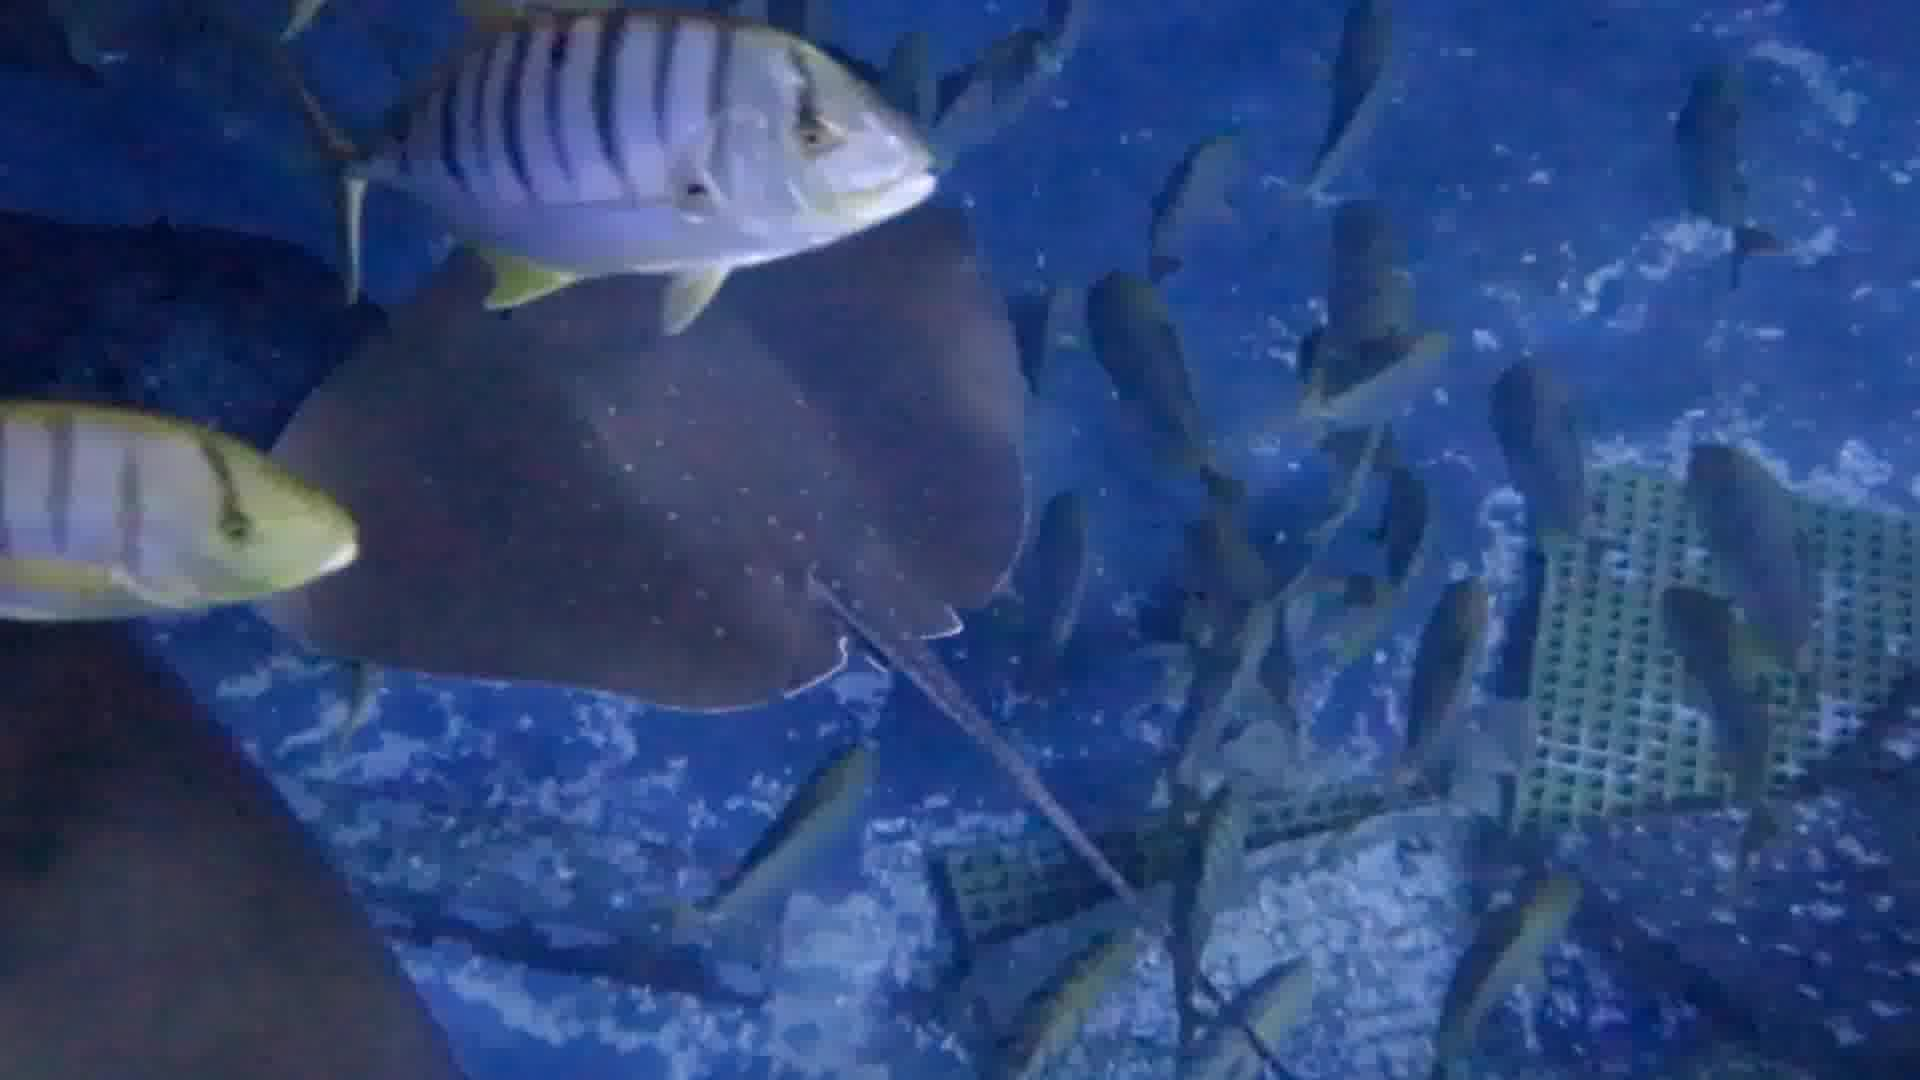Himantura gerrardi: (272, 281, 1164, 938)
